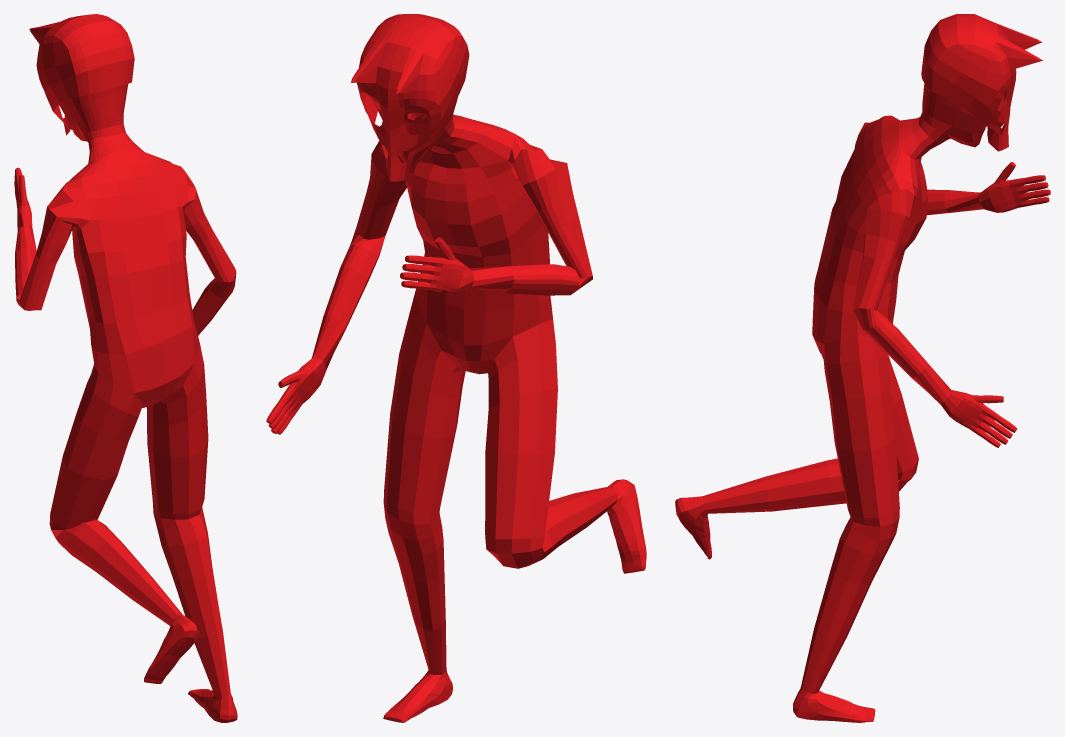
Rendered from correrE_000110.obj.
The picture shows the model from 3 angles, left to right: view 1: azimuth 30°, elevation 25°; view 2: azimuth 150°, elevation 25°; view 3: azimuth 270°, elevation 25°; orthographic projection. The views are drawn at different scales.
Visible parts, largest first — view 1: Plane.002_Plane.001; view 2: Plane.002_Plane.001; view 3: Plane.002_Plane.001.
Boxes of the visible parts, left/top/right/bottom form: Plane.002_Plane.001: left=14, top=14, right=237, bottom=722; Plane.002_Plane.001: left=266, top=14, right=646, bottom=722; Plane.002_Plane.001: left=675, top=14, right=1050, bottom=722.
Size of the model in its own units: 2.29 by 6.66 by 3.4.
